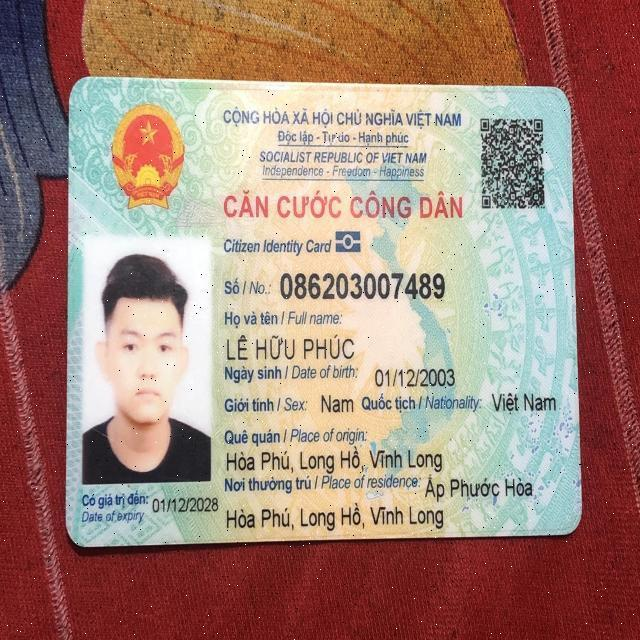current_place: (224, 499, 448, 531), (421, 474, 539, 504)
dob: (371, 365, 461, 392)
expire_date: (148, 495, 220, 517)
gender: (318, 388, 360, 420)
id: (276, 267, 446, 301)
name: (225, 331, 356, 360)
nationality: (493, 381, 558, 417)
origin_place: (224, 447, 444, 475)
